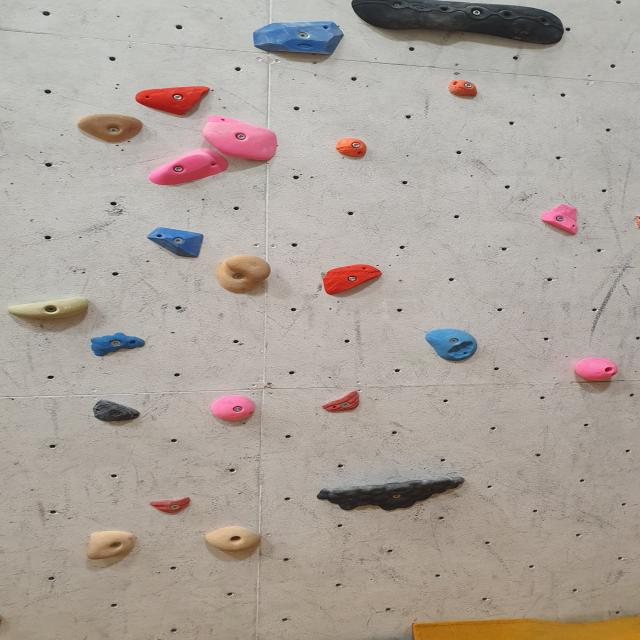Crimp: (250, 21, 346, 56), (153, 148, 225, 187), (136, 85, 209, 115), (321, 263, 376, 293), (536, 204, 582, 234), (91, 400, 142, 422), (147, 498, 194, 514), (327, 392, 362, 413)
Jug: (323, 475, 468, 511), (199, 116, 284, 164), (72, 112, 148, 144), (211, 257, 266, 294), (204, 524, 264, 553), (88, 530, 133, 560)
Pinch: (13, 295, 86, 321), (574, 355, 620, 383), (213, 396, 255, 421), (444, 78, 480, 99), (336, 137, 369, 159)
Sloper: (348, 0, 564, 46), (150, 226, 202, 258), (425, 327, 471, 362), (86, 332, 137, 354)
